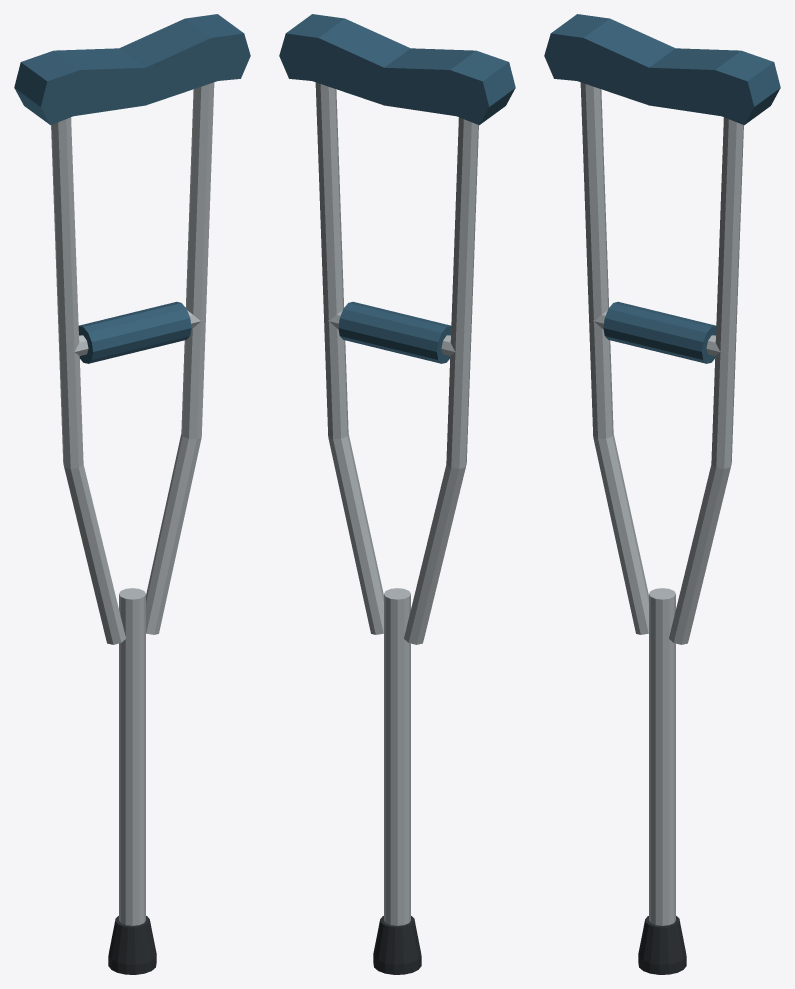
3 views of the same model, side by side, from view 1: azimuth 30°, elevation 25°; view 2: azimuth 150°, elevation 25°; view 3: azimuth 330°, elevation 25° (orthographic).
Visible parts, largest first — view 1: ConcaveAxillaryCushion, RightConvergingFrame, LeftConvergingFrame, SingleLowerStem, CentralGripCushion, ClosedRubberFerrule; view 2: ConcaveAxillaryCushion, RightConvergingFrame, LeftConvergingFrame, SingleLowerStem, CentralGripCushion, ClosedRubberFerrule; view 3: ConcaveAxillaryCushion, LeftConvergingFrame, RightConvergingFrame, SingleLowerStem, CentralGripCushion, ClosedRubberFerrule.
Part boxes in pixels (<box>): ConcaveAxillaryCushion: <box>14,14,250,125</box>; RightConvergingFrame: <box>146,82,214,634</box>; LeftConvergingFrame: <box>51,117,125,644</box>; SingleLowerStem: <box>119,588,145,925</box>; CentralGripCushion: <box>78,301,191,363</box>; ClosedRubberFerrule: <box>108,916,156,974</box>; ConcaveAxillaryCushion: <box>279,14,515,125</box>; RightConvergingFrame: <box>315,82,383,634</box>; LeftConvergingFrame: <box>404,117,478,644</box>; SingleLowerStem: <box>384,588,410,925</box>; CentralGripCushion: <box>338,301,451,363</box>; ClosedRubberFerrule: <box>373,916,421,974</box>; ConcaveAxillaryCushion: <box>544,14,780,125</box>; LeftConvergingFrame: <box>580,82,648,634</box>; RightConvergingFrame: <box>669,117,743,644</box>; SingleLowerStem: <box>649,588,675,925</box>; CentralGripCushion: <box>603,301,716,363</box>; ClosedRubberFerrule: <box>638,916,686,974</box>.
Bounding box in the file's own units: 0.32 × 1.34 × 0.07.
